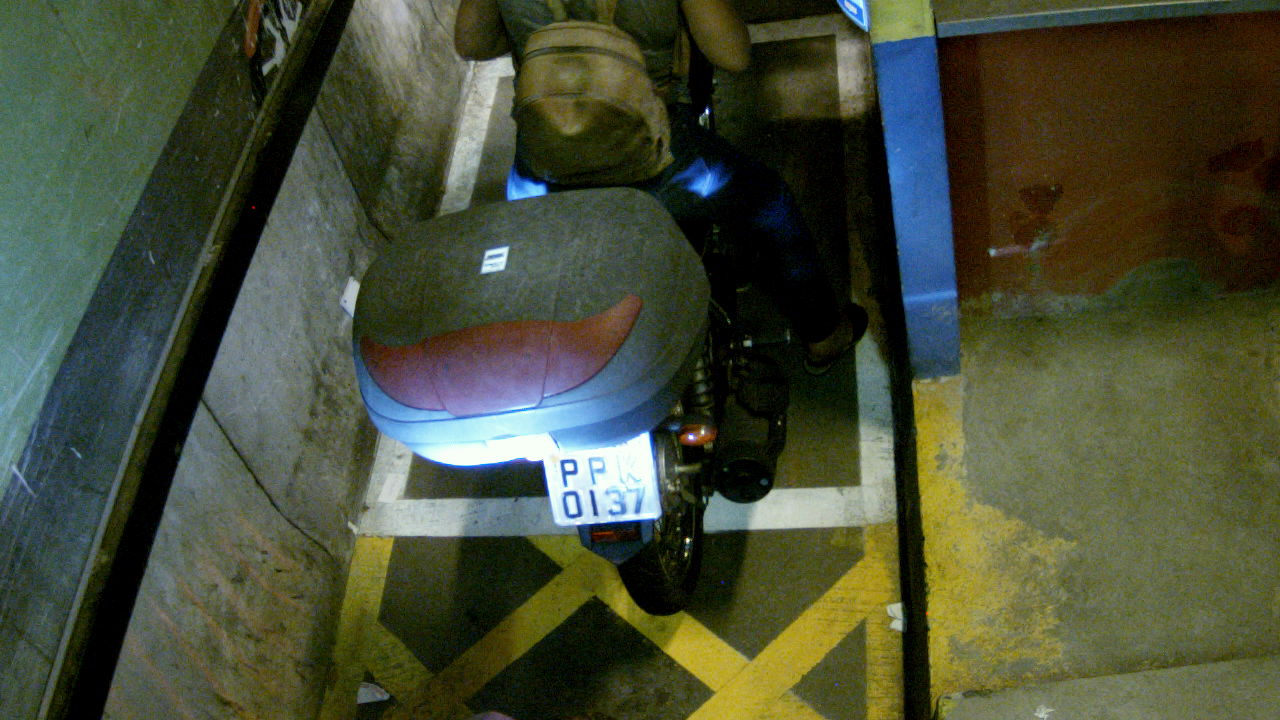placa: (541, 428, 665, 526)
